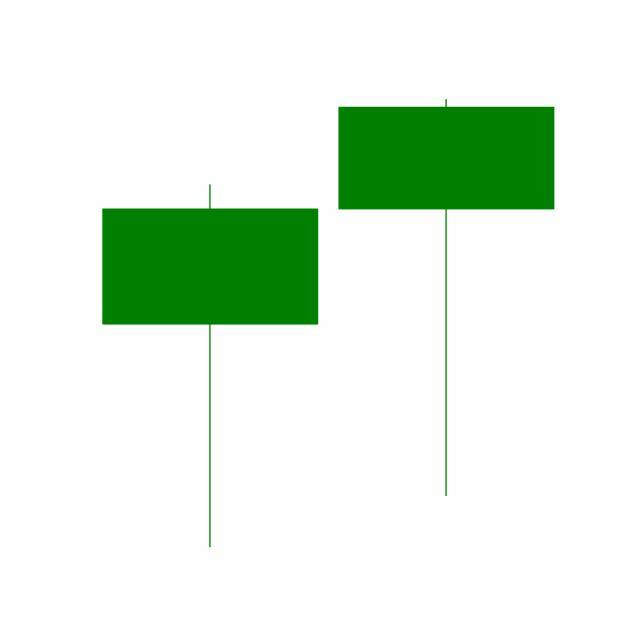Hanging Man: (328, 96, 566, 502)
